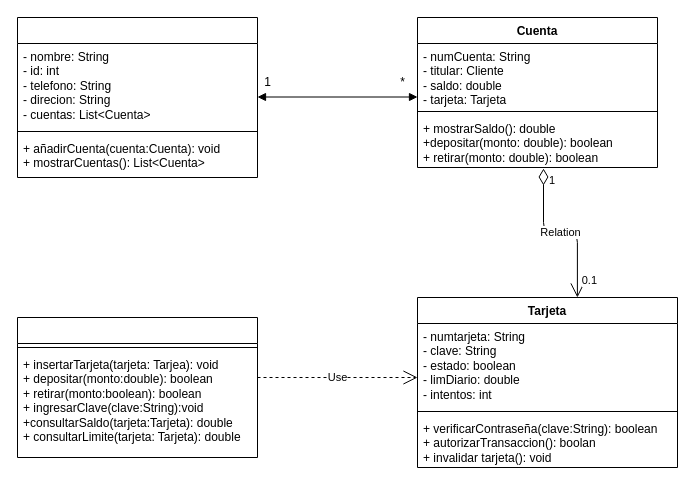
Image size: 695x488. Some labels were removed from this diagram. Here are the shapes that lost their labels. From the top down, the box of each, then its label:
(16, 16, 258, 178): Cliente
(16, 316, 258, 458): Cajero
